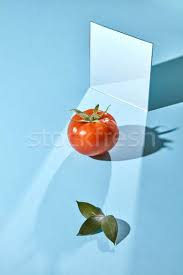tomato: (66, 108, 119, 156)
